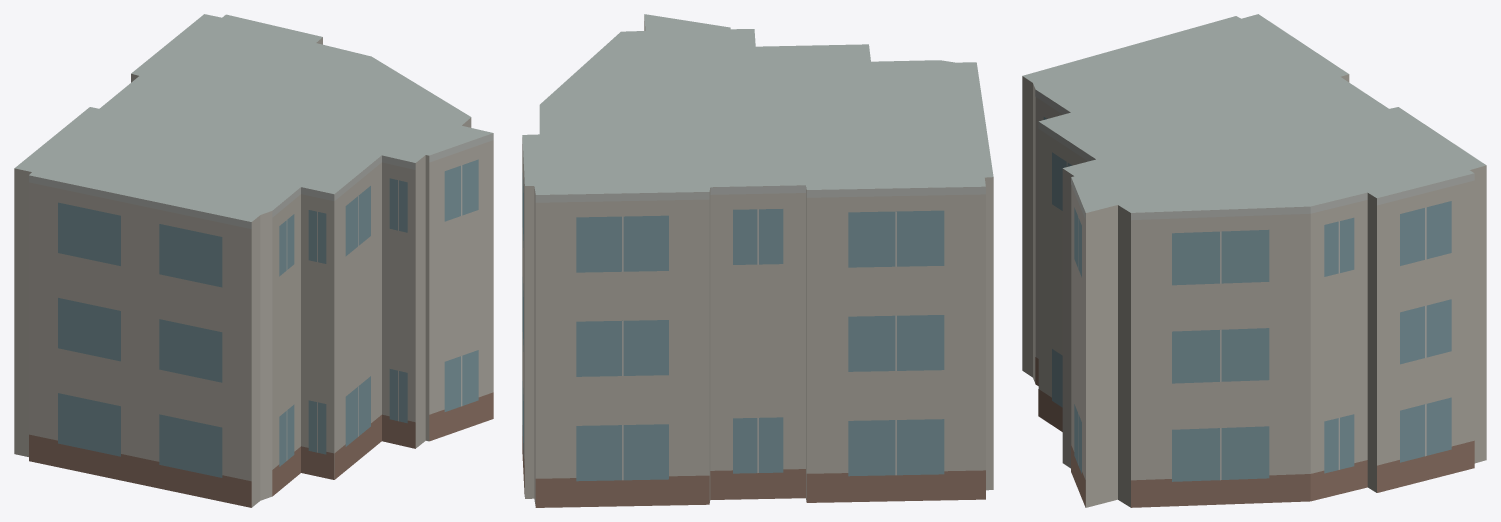
Rendered from survey-upis-33043133.glb.
3 renders of one model, left to right at view 1: azimuth 30°, elevation 25°; view 2: azimuth 150°, elevation 25°; view 3: azimuth 270°, elevation 25°, orthographic. The views are drawn at different scales.
Visible parts, largest first — view 1: survey-upis-33043133.tmp; view 2: survey-upis-33043133.tmp; view 3: survey-upis-33043133.tmp.
Boxes of the visible parts, left/top/right/bottom form: survey-upis-33043133.tmp: left=14, top=14, right=493, bottom=507; survey-upis-33043133.tmp: left=522, top=14, right=993, bottom=507; survey-upis-33043133.tmp: left=1022, top=14, right=1486, bottom=507.
Size of the model in its own units: 14.37 by 9.92 by 14.17.
